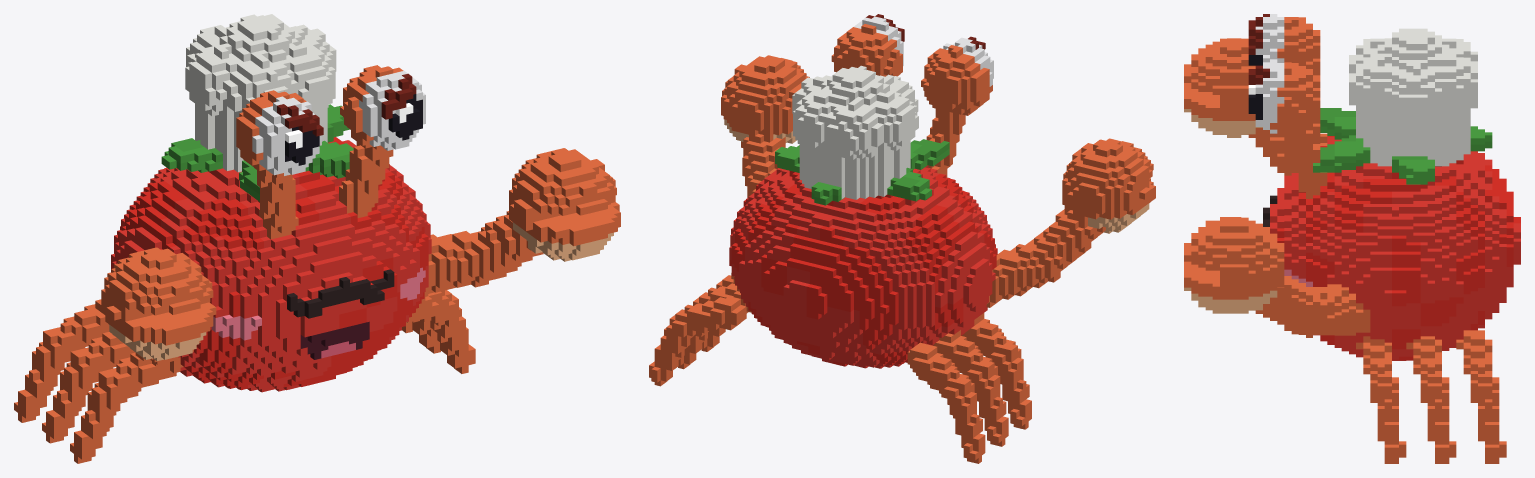
The model's file is pomodorino_granchietto.fbx.
3 views of the same model, side by side, from view 1: azimuth 30°, elevation 25°; view 2: azimuth 150°, elevation 25°; view 3: azimuth 270°, elevation 25° (orthographic). The views are drawn at different scales.
Visible parts, largest first — view 1: SM_Brainrot_pomodorino_granchietto; view 2: SM_Brainrot_pomodorino_granchietto; view 3: SM_Brainrot_pomodorino_granchietto.
Part boxes in pixels (x1,y1,x2,y2): SM_Brainrot_pomodorino_granchietto: (14, 14, 620, 463); SM_Brainrot_pomodorino_granchietto: (649, 14, 1155, 463); SM_Brainrot_pomodorino_granchietto: (1184, 14, 1520, 463).
Bounding box in the file's own units: 432 × 318 × 282.
Materials: 1 (1 with a texture image).
